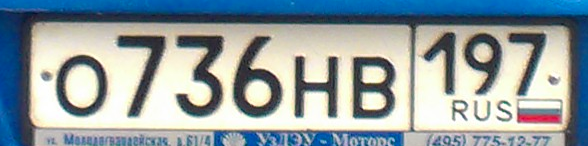character: (228, 36, 287, 123), (114, 34, 171, 121), (170, 31, 225, 121), (55, 51, 111, 121), (458, 30, 506, 103), (292, 54, 342, 122), (350, 55, 397, 124), (508, 30, 549, 97), (423, 31, 459, 98)
